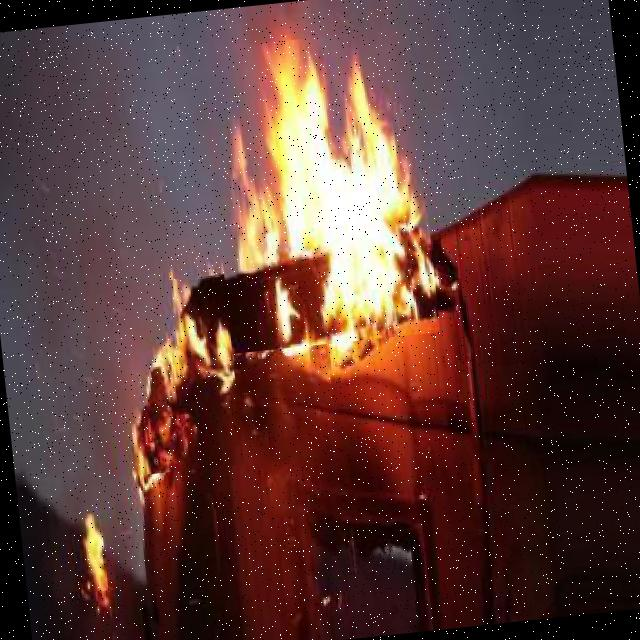fire: (197, 28, 440, 354), (82, 274, 244, 478), (73, 512, 117, 592)
